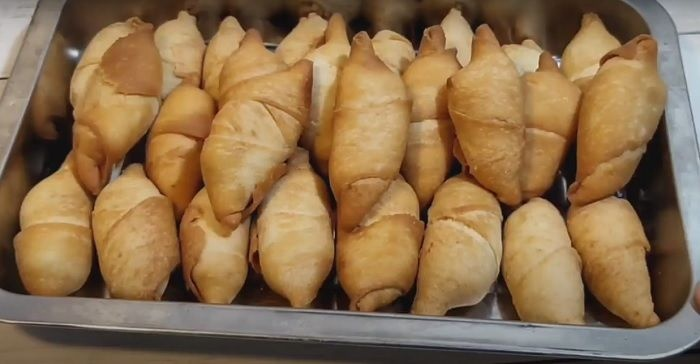pisang_molen: (200, 59, 314, 228), (565, 33, 666, 205), (327, 32, 412, 232), (69, 21, 159, 193), (448, 24, 527, 204), (253, 148, 334, 310), (563, 198, 663, 328), (417, 172, 502, 322), (92, 163, 181, 305), (499, 197, 591, 326), (16, 157, 91, 301)
